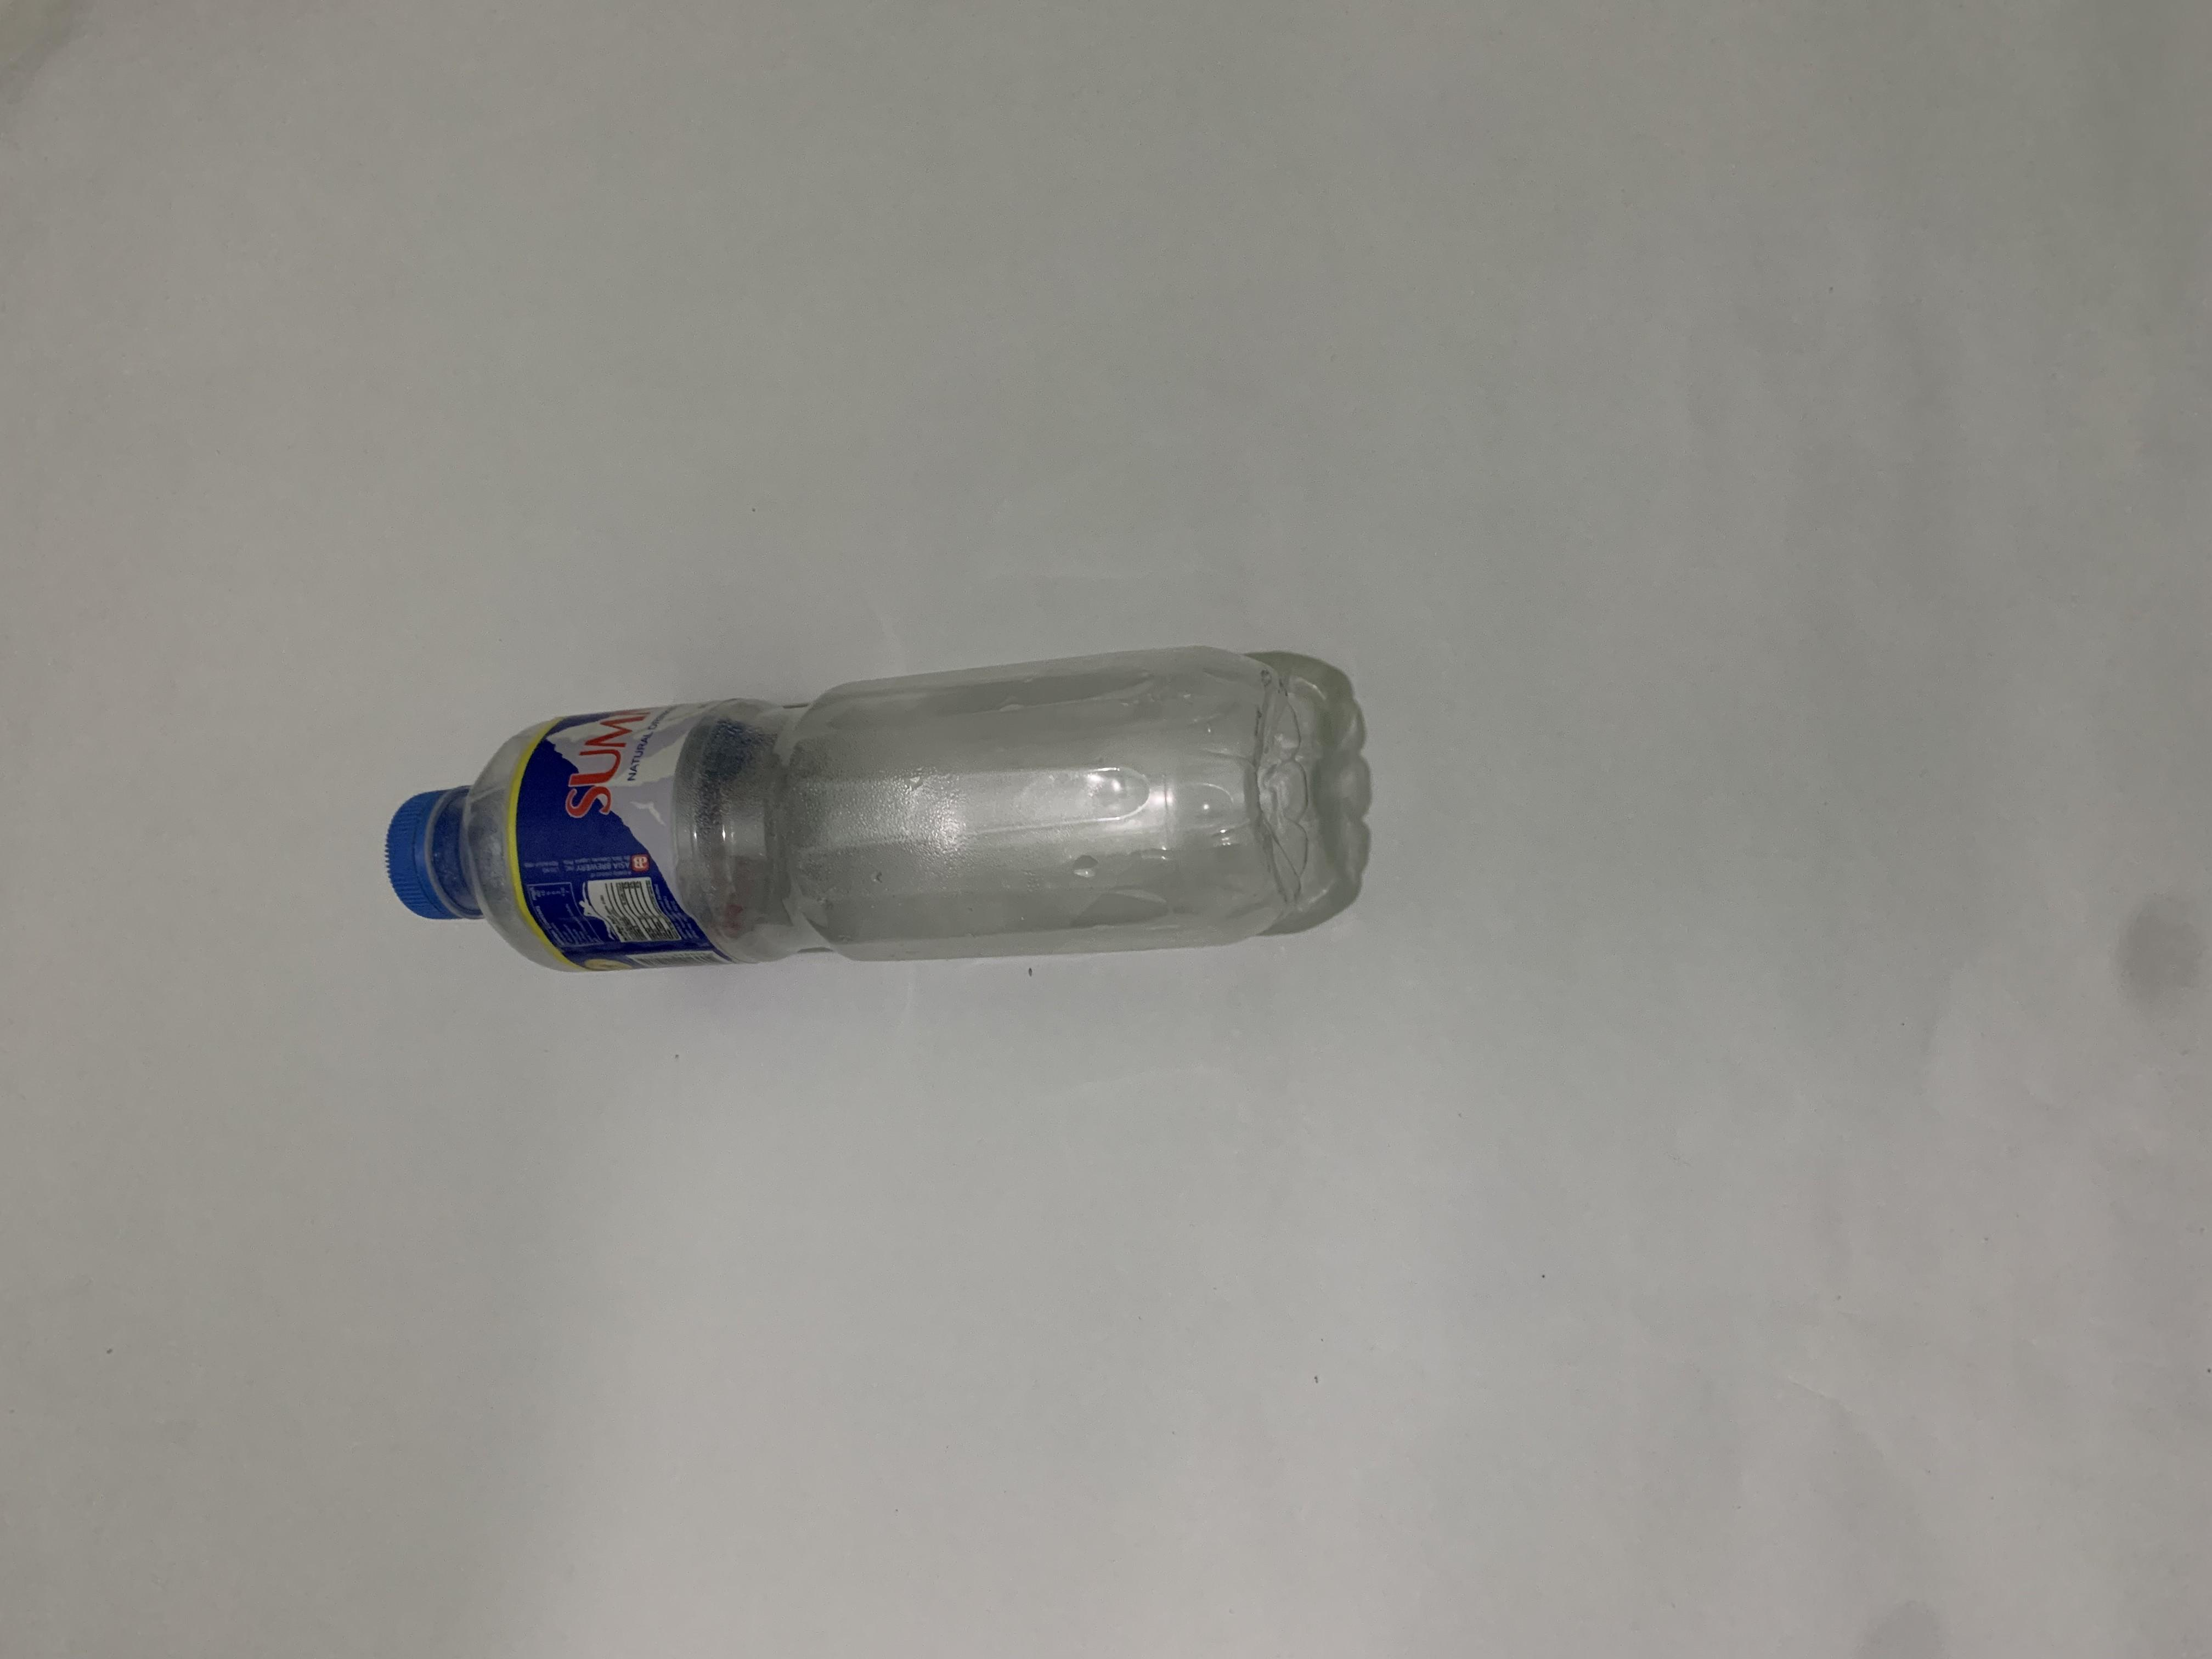bottle: (0, 321, 254, 995)
